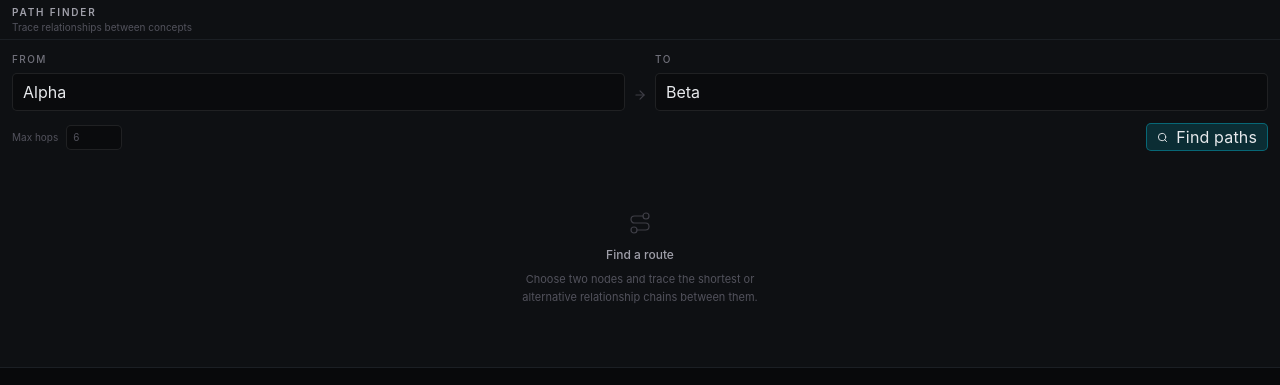
PathFinderPanel › disables search when both endpoints are the same
The image size is (1280, 385).
Select "Alpha" in the dropdown labelled "To". click: (962, 92)
box: [655,73,1268,111]
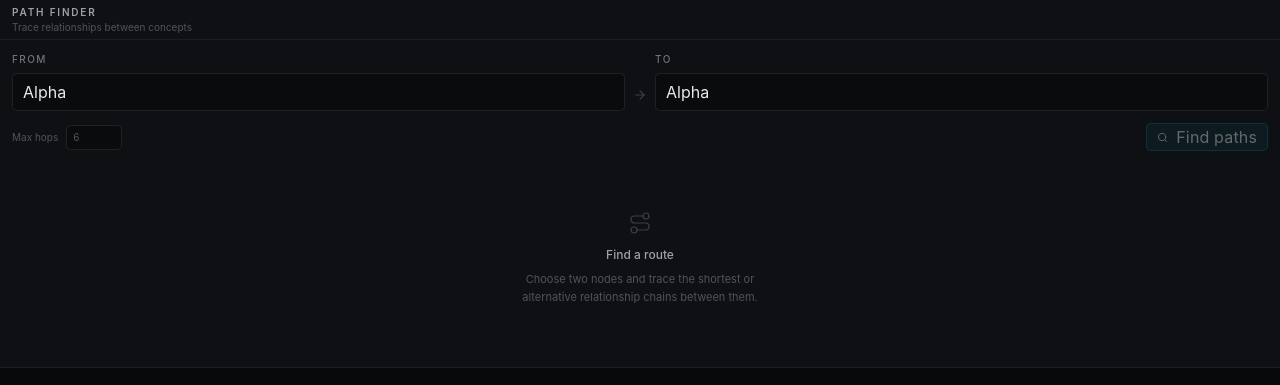
Expected: the button "Find paths" is disabled, [1146,123,1268,151]
